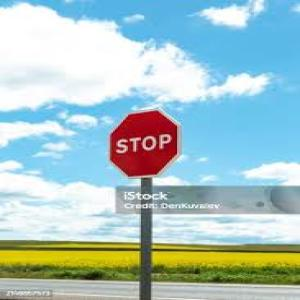STOP: (110, 107, 185, 181)
